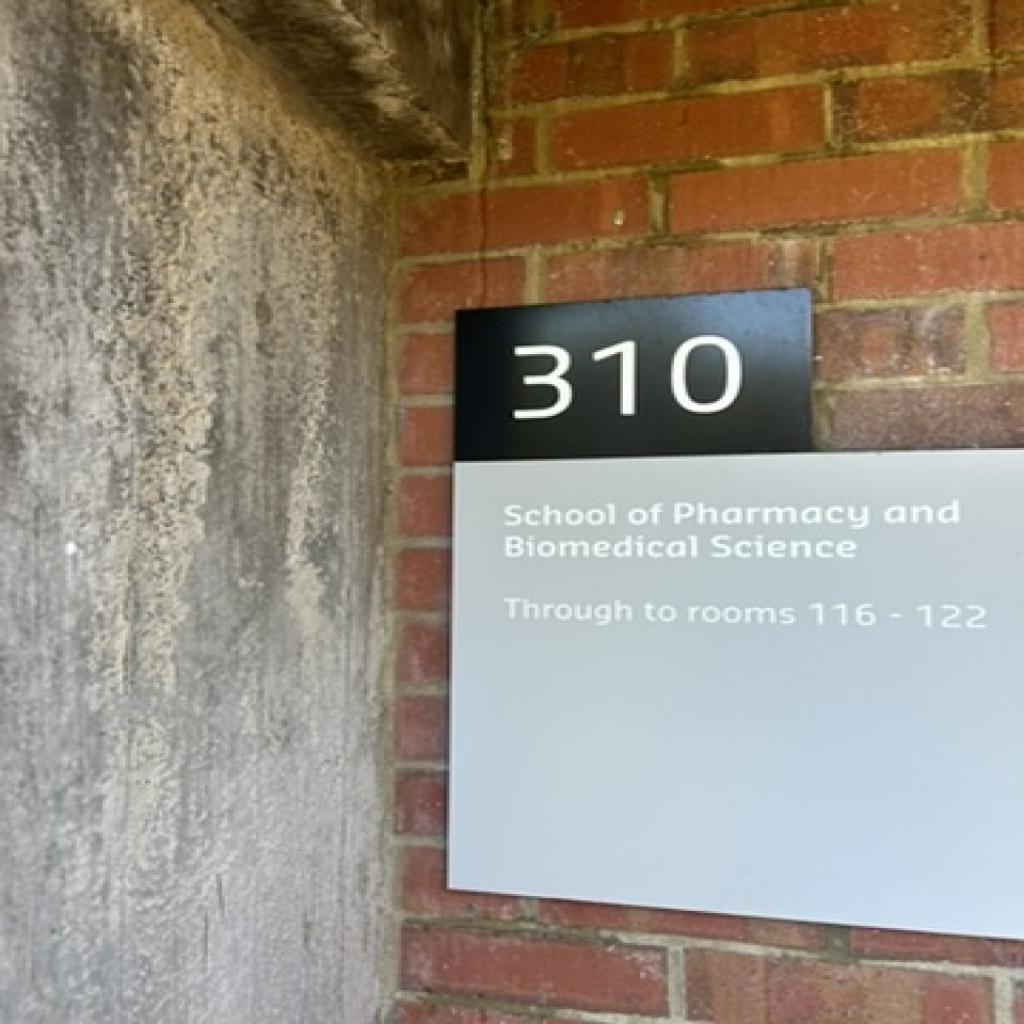BuildingCodes: (510, 331, 748, 423)
